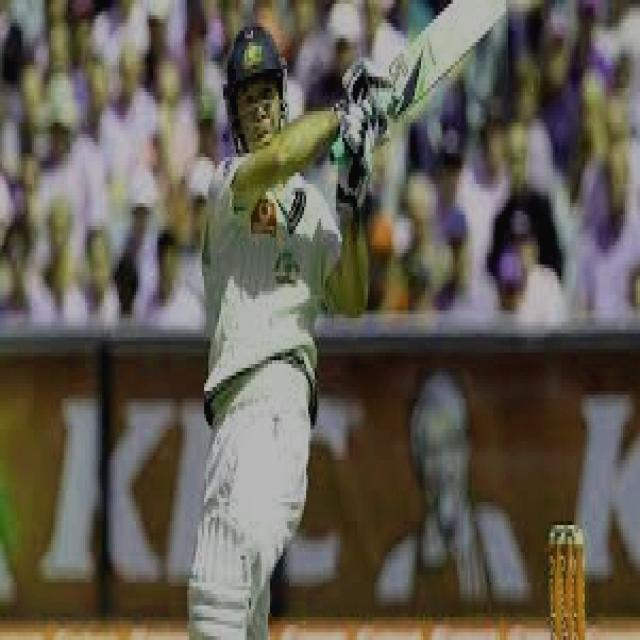toe: (456, 0, 506, 16)
